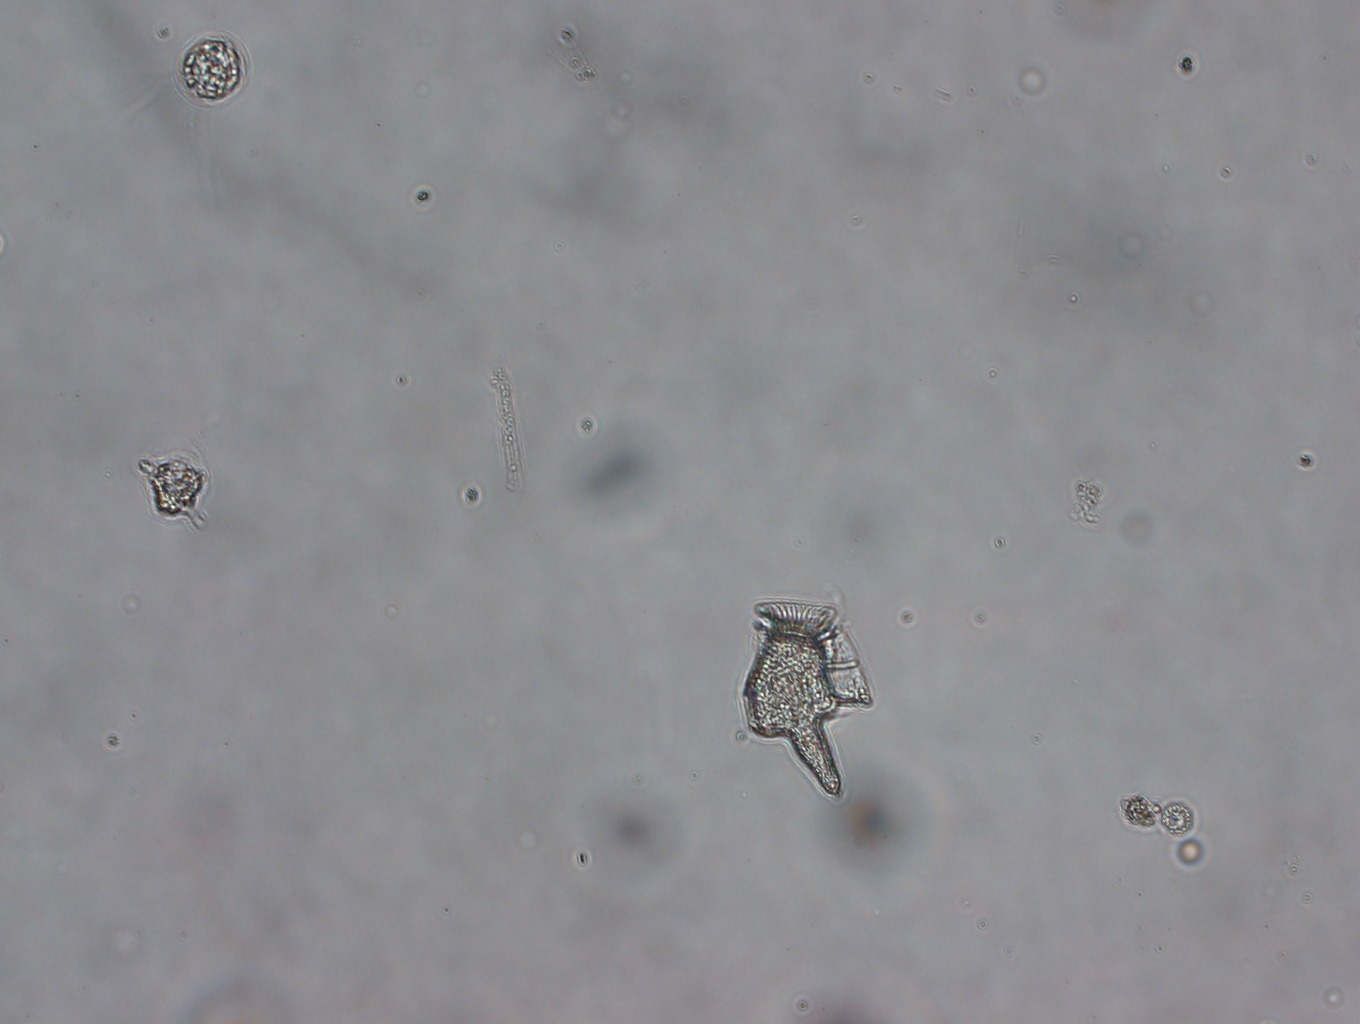dinophysis caudata: (738, 599, 875, 799)
